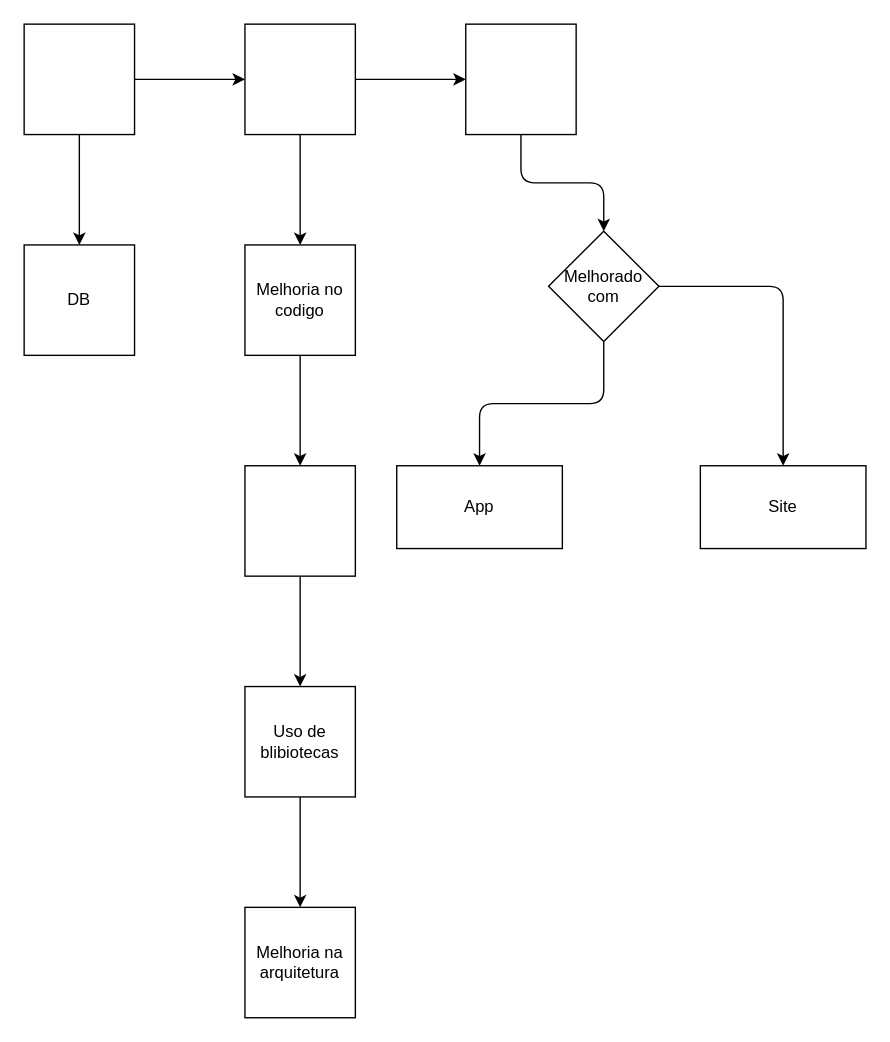
The diagram is 890 pixels wide and 1042 high, and some of its shapes have lost their labels. Here are the shapes that lost their labels. From the top down, the box of each, then its label:
(23, 23, 135, 135): Dados
(244, 23, 355, 135): Controle de dados
(464, 23, 576, 135): Display / comand line
(244, 464, 355, 576): Expansão de recursos
